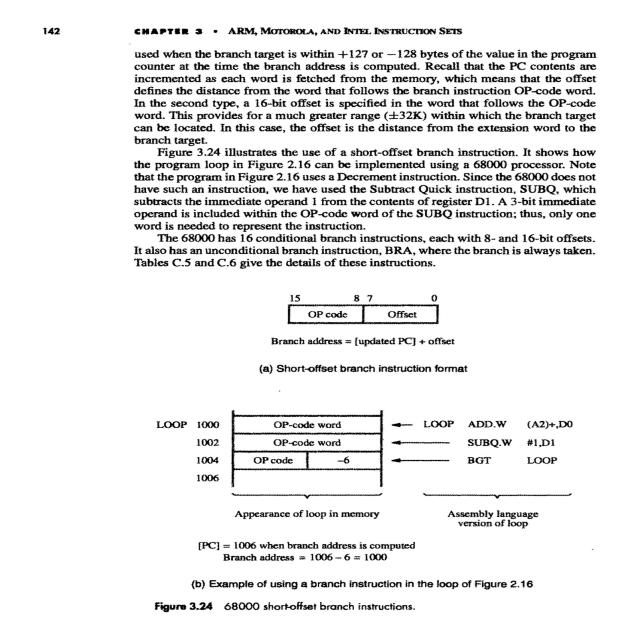diagram: (123, 268, 640, 639)
